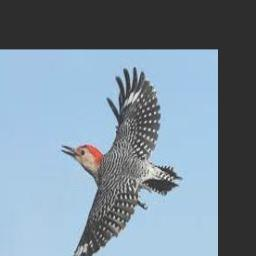Woodpecker: (45, 66, 183, 256)
